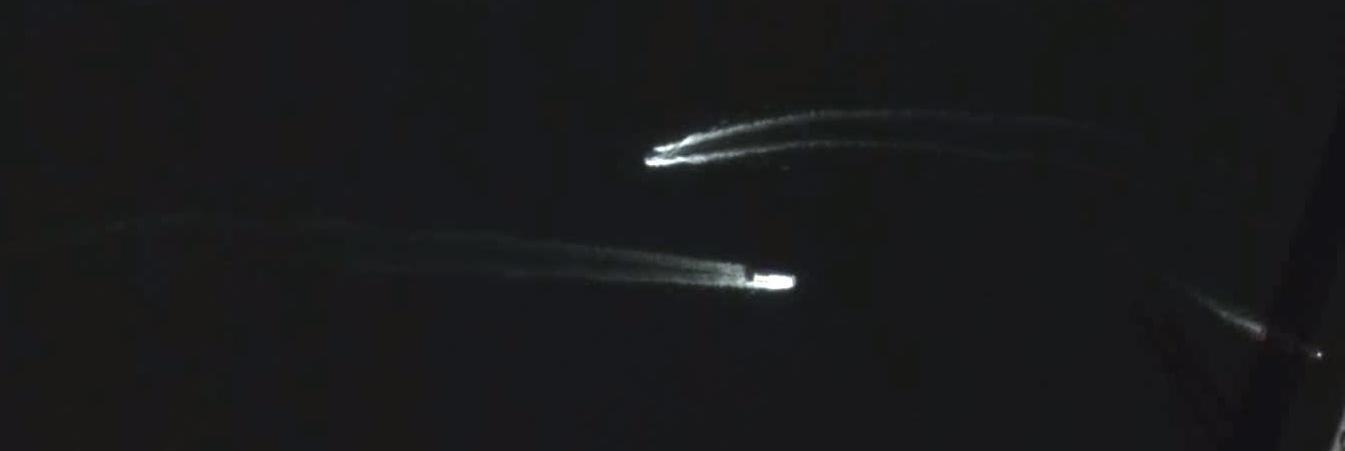person: (755, 272, 796, 289), (1293, 341, 1322, 359), (646, 151, 665, 158)
